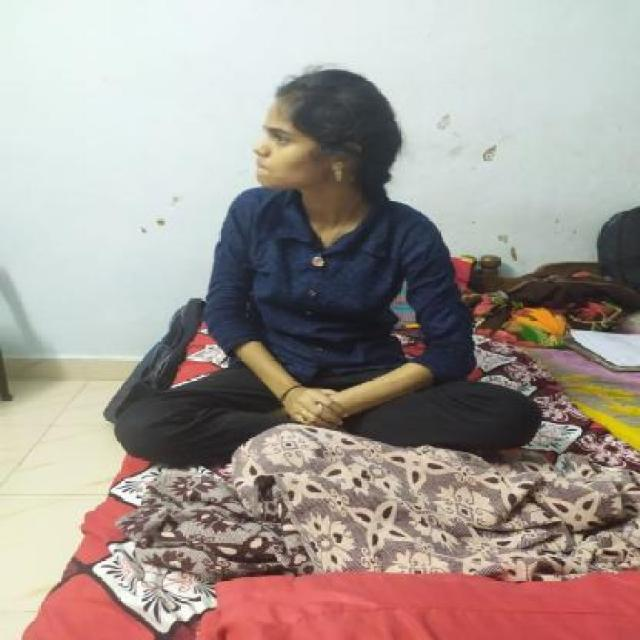cheating: (192, 46, 486, 363)
